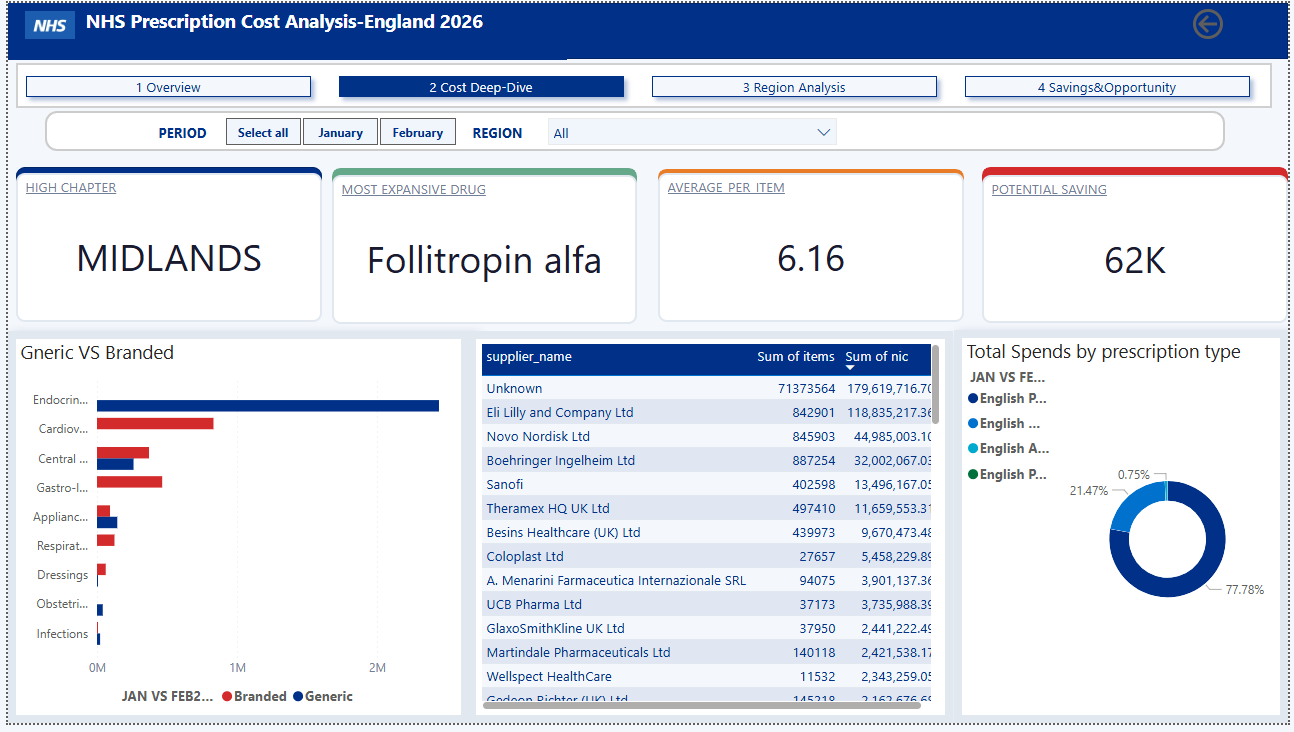

This screenshot's page, from the dashboard's own definition file:
{"tool":"powerbi","page":{"name":"2 Cost Deep-Dive","canvas":[1280,720],"ordinal":1},"visuals":[{"type":"shape","title":"NHS Prescription Cost Analysis-England 2026","box":[0,0,1279.7,56.4],"z":0},{"type":"textbox","box":[0,0,559.2,56.7],"z":1000},{"type":"image","box":[17,6.5,50,30],"z":2000},{"type":"shape","box":[8.2,164.2,305.9,43.9],"z":3000},{"type":"card","title":"HIGH CHAPTER","fields":{"Values":["Measures Table.Highest Region"]},"box":[8,170,306,149],"z":4000},{"type":"shape","box":[324,164.6,305.2,28.1],"z":6000},{"type":"cardVisual","fields":{"Data":["Measures Table.MoM Change %"]},"box":[50,343.8,147.9,56.2],"z":7000},{"type":"card","title":"MOST EXPANSIVE DRUG","fields":{"Values":["Measures Table.Most Expensive Drug"]},"box":[324,171.9,305.2,149],"z":8000},{"type":"shape","box":[650,165.5,305.5,42.5],"z":10000},{"type":"card","title":"AVERAGE_PER_ITEM","fields":{"Values":["Measures Table.avg_cost_per_item"]},"box":[650,170,306,149],"z":11000},{"type":"shape","box":[973.9,164.4,305.7,41.6],"z":12000},{"type":"card","title":"POTENTIAL SAVING","fields":{"Values":["Measures Table.potential_savings"]},"box":[974,172.1,305.8,148.1],"z":13000},{"type":"clusteredBarChart","title":"Gneric VS Branded","fields":{"Category":["dim_drugs.bnf_chapter"],"Y":["Measures Table.total_spend"],"Series":["dim_drugs.Drug Type"]},"box":[0,328.1,461.5,391.7],"z":14000},{"type":"donutChart","title":"Total Spends by prescription type","fields":{"Y":["Sum(fact_table.nic)"],"Category":["dim_supplier.dispenser_account_type"]},"box":[946.4,326.8,334,392.8],"z":15000},{"type":"tableEx","fields":{"Values":["dim_supplier.supplier_name","Sum(fact_table.items)","Sum(fact_table.nic)"]},"box":[460,327.7,485.1,392],"z":16000},{"type":"shape","box":[8,60,1256,45],"z":17000},{"type":"textbox","box":[59.6,116.2,33.3,16.2],"z":20000},{"type":"shape","box":[37.3,108.2,1180,40],"z":30000},{"type":"slicer","fields":{"Values":["dim_date.months"]},"box":[191.6,108.4,280.3,40.3],"z":31000},{"type":"actionButton","box":[1179.8,1,100,40.4],"z":32000},{"type":"textbox","box":[146.4,115.9,253.4,49.1],"z":33000},{"type":"textbox","box":[460.3,115.5,108.4,33.1],"z":34000},{"type":"slicer","fields":{"Values":["dim_location.region_name"]},"box":[529.9,105.2,309.3,43.3],"z":35000},{"type":"pageNavigator","box":[8.6,64.3,1245.7,38.6],"z":41001}]}

Visuals, with their boxes in screenshot pixels (x1, y1, x2, y2), scaled from the page's 1280x720 canvas onto the 1294x732 screenshot:
"NHS Prescription Cost Analysis-England 2026" shape: [0, 0, 1293, 57]
textbox: [0, 0, 565, 58]
image: [17, 7, 68, 37]
shape: [8, 167, 318, 212]
"HIGH CHAPTER" card: [8, 173, 317, 324]
shape: [328, 167, 636, 196]
cardVisual - Measures Table.MoM Change %: [51, 350, 200, 407]
"MOST EXPANSIVE DRUG" card: [328, 175, 636, 326]
shape: [657, 168, 966, 211]
"AVERAGE_PER_ITEM" card: [657, 173, 966, 324]
shape: [985, 167, 1293, 209]
"POTENTIAL SAVING" card: [985, 175, 1293, 326]
"Gneric VS Branded" clusteredBarChart: [0, 334, 467, 731]
"Total Spends by prescription type" donutChart: [957, 332, 1293, 731]
tableEx - dim_supplier.supplier_name x Sum(fact_table.items): [465, 333, 955, 731]
shape: [8, 61, 1278, 107]
textbox: [60, 118, 94, 135]
shape: [38, 110, 1231, 151]
slicer - dim_date.months: [194, 110, 477, 151]
actionButton: [1193, 1, 1293, 42]
textbox: [148, 118, 404, 168]
textbox: [465, 117, 575, 151]
slicer - dim_location.region_name: [536, 107, 848, 151]
pageNavigator: [9, 65, 1268, 105]
